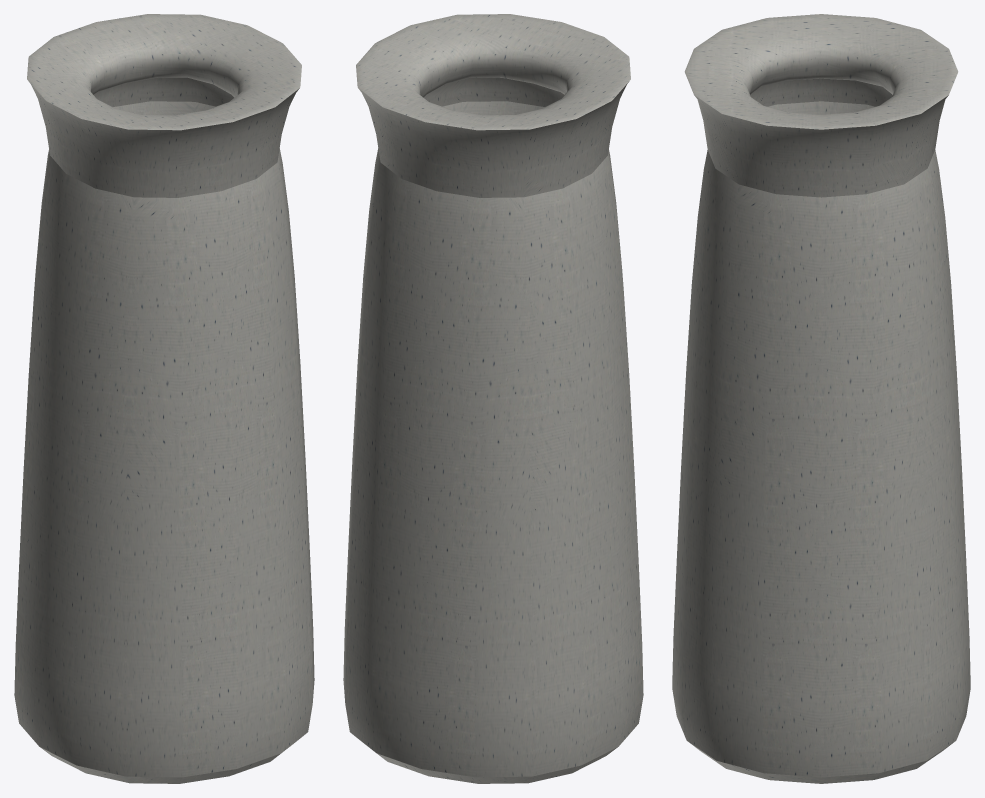
File: vase1.glb
3 renders of one model, left to right at view 1: azimuth 30°, elevation 25°; view 2: azimuth 150°, elevation 25°; view 3: azimuth 270°, elevation 25°, orthographic.
Visible parts, largest first — view 1: Cube; view 2: Cube; view 3: Cube.
Part boxes in pixels (bbox=[...]): Cube: bbox=[14, 14, 314, 783]; Cube: bbox=[343, 14, 643, 783]; Cube: bbox=[672, 14, 970, 783].
Size of the model in its own units: 1.5 by 3.68 by 1.5.
Materials: 1 (1 with a texture image).
